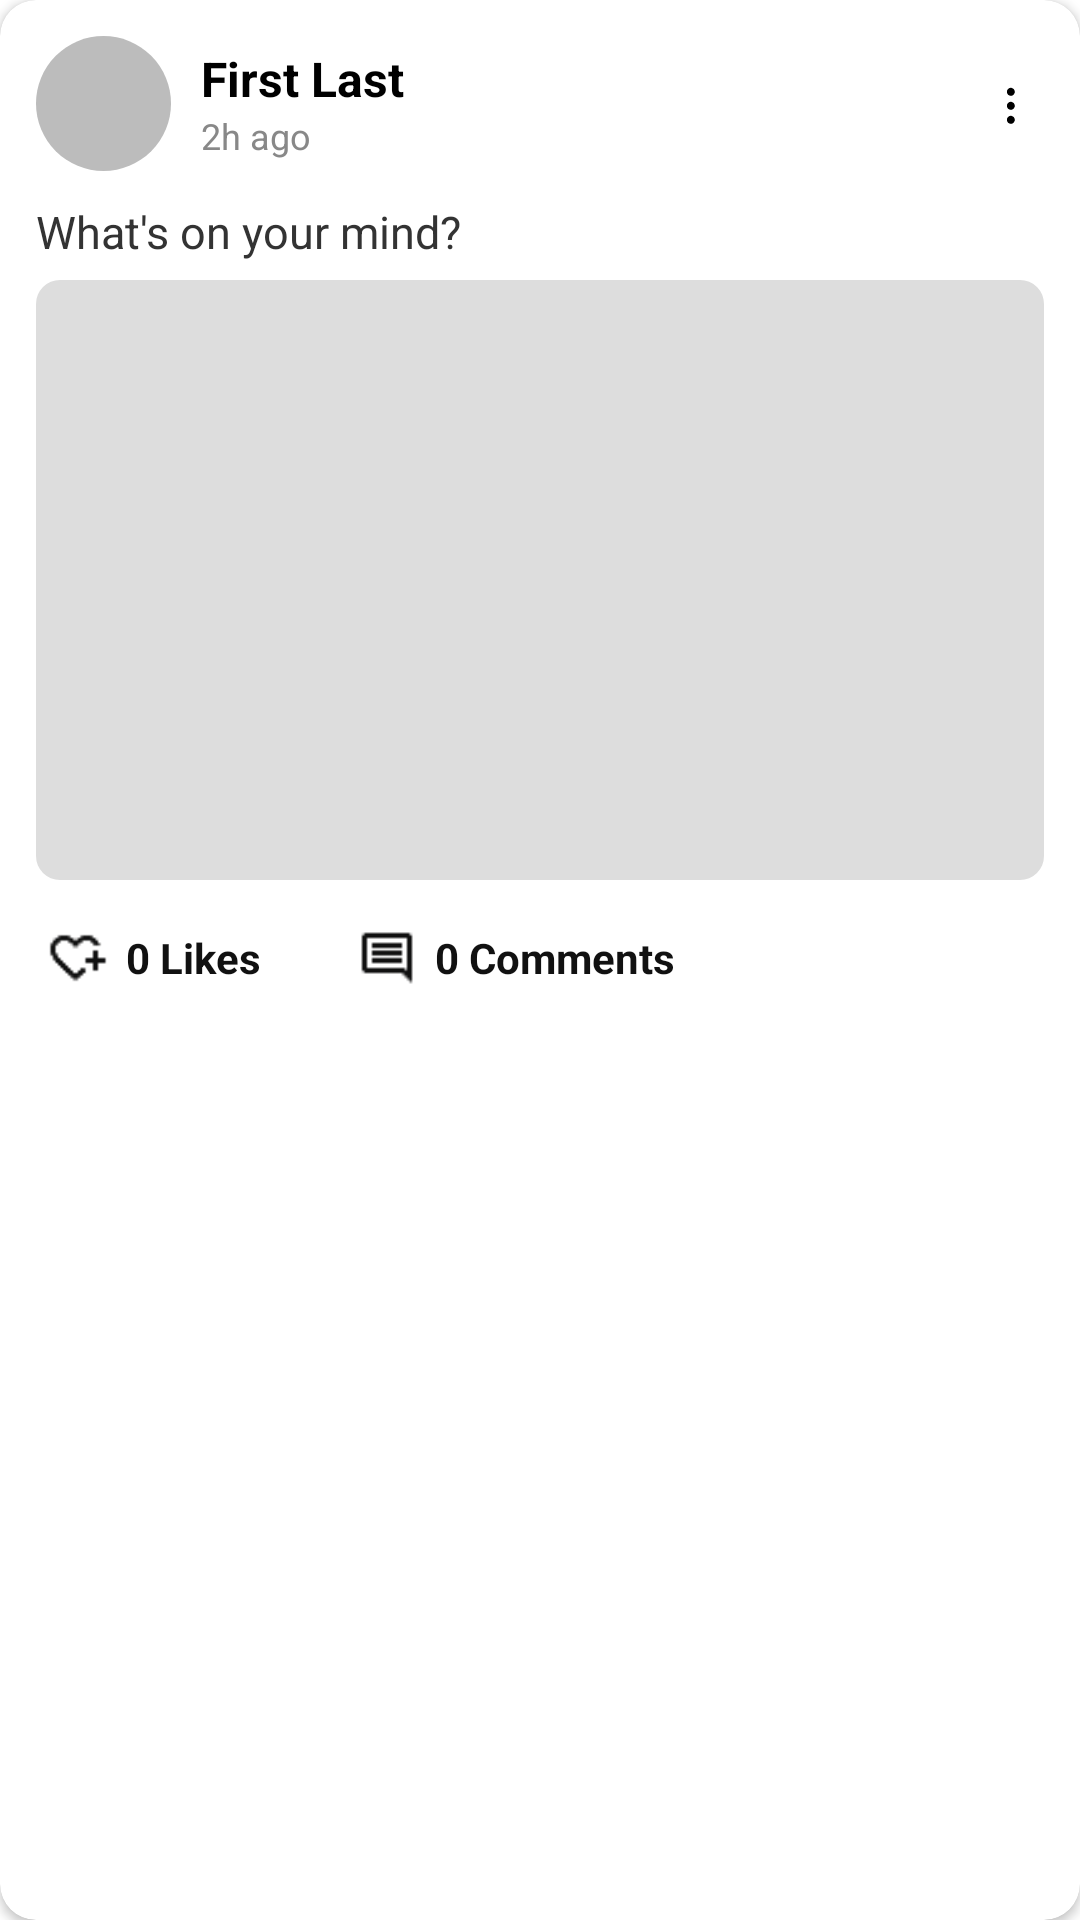

Named icons in this screenshot (1080 x 1920) and their centers, point (x, y):
Comment Icon: point (387, 958)
Like Icon: point (78, 958)
Post Options: point (1011, 105)
